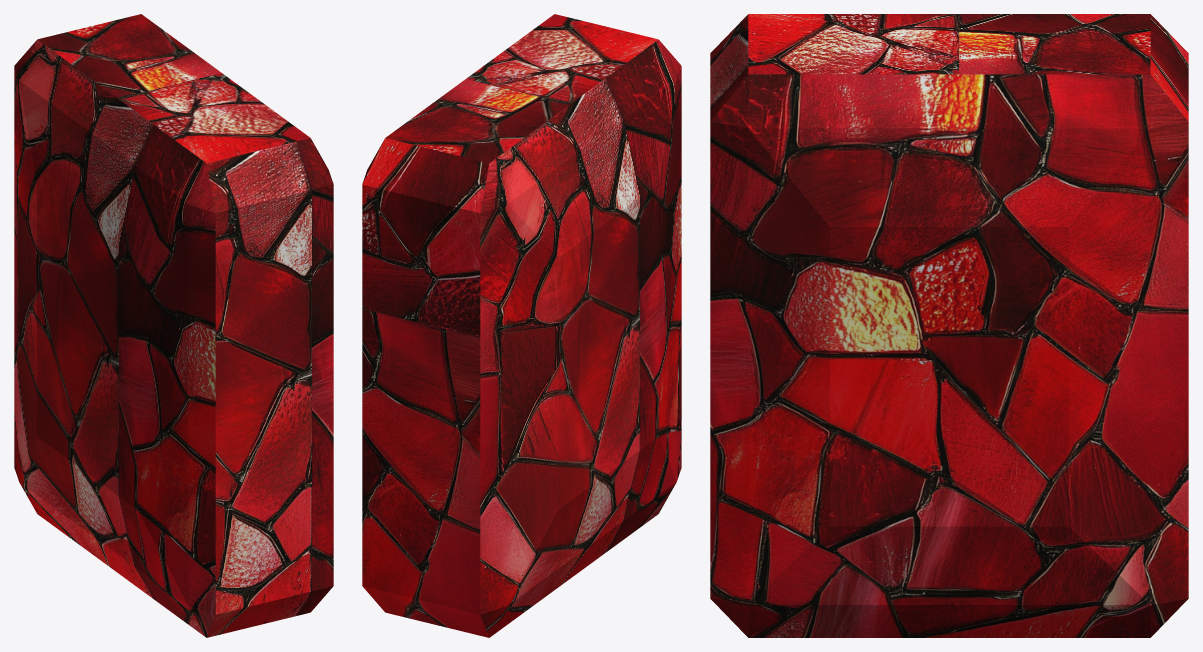
File: gemstone6Red.glb
3 renders of one model, left to right at view 1: azimuth 30°, elevation 25°; view 2: azimuth 150°, elevation 25°; view 3: azimuth 270°, elevation 25°, orthographic. The views are drawn at different scales.
Visible parts, largest first — view 1: gemstone5; view 2: gemstone5; view 3: gemstone5.
Boxes of the visible parts, x1,y1,x2,y2 form: gemstone5: (14, 14, 333, 637); gemstone5: (362, 14, 681, 637); gemstone5: (710, 14, 1188, 637).
Bounding box in the file's own units: 0.5 × 1.3 × 1.
Materials: 1 (1 with a texture image).
